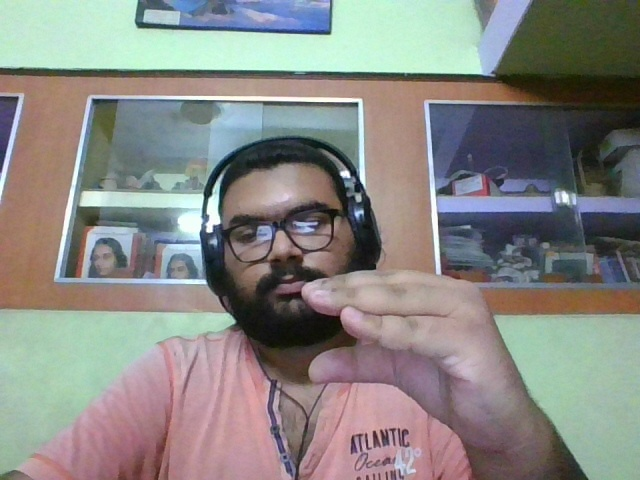no: (301, 271, 545, 426)
